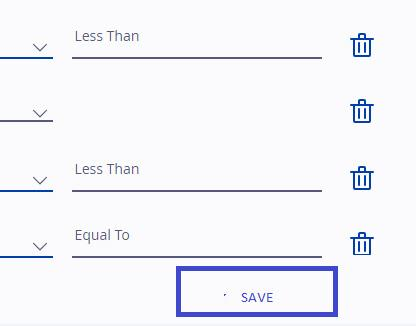button: (172, 264, 343, 319)
